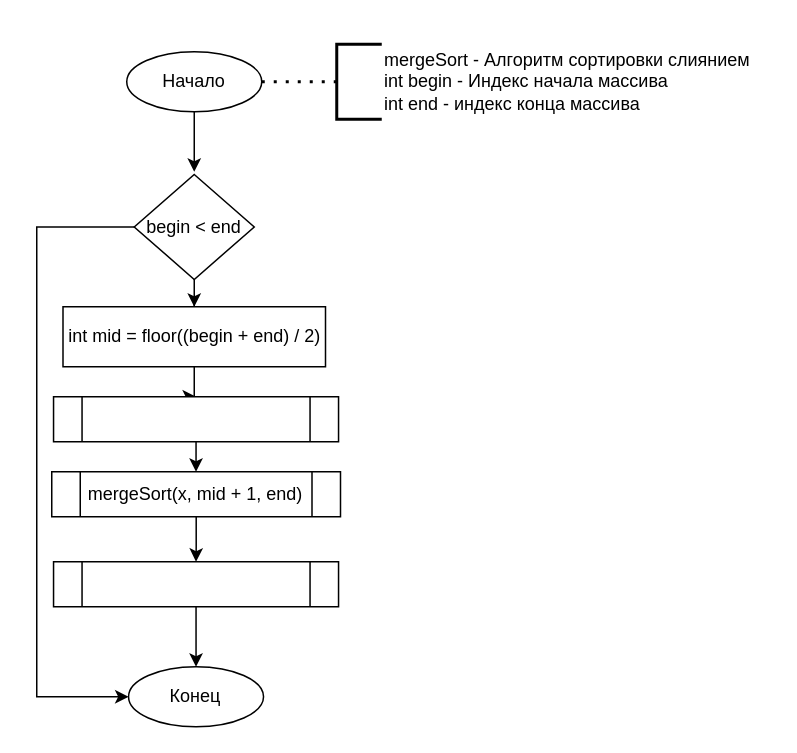
This 797x753 diagram has some shape labels left out. The centre of each missing label's shape, as x and y in pixels:
"merge(x, begin, mid, end)" goes at (195,583).
"mergeSort(x, begin, mid)" goes at (195,418).
